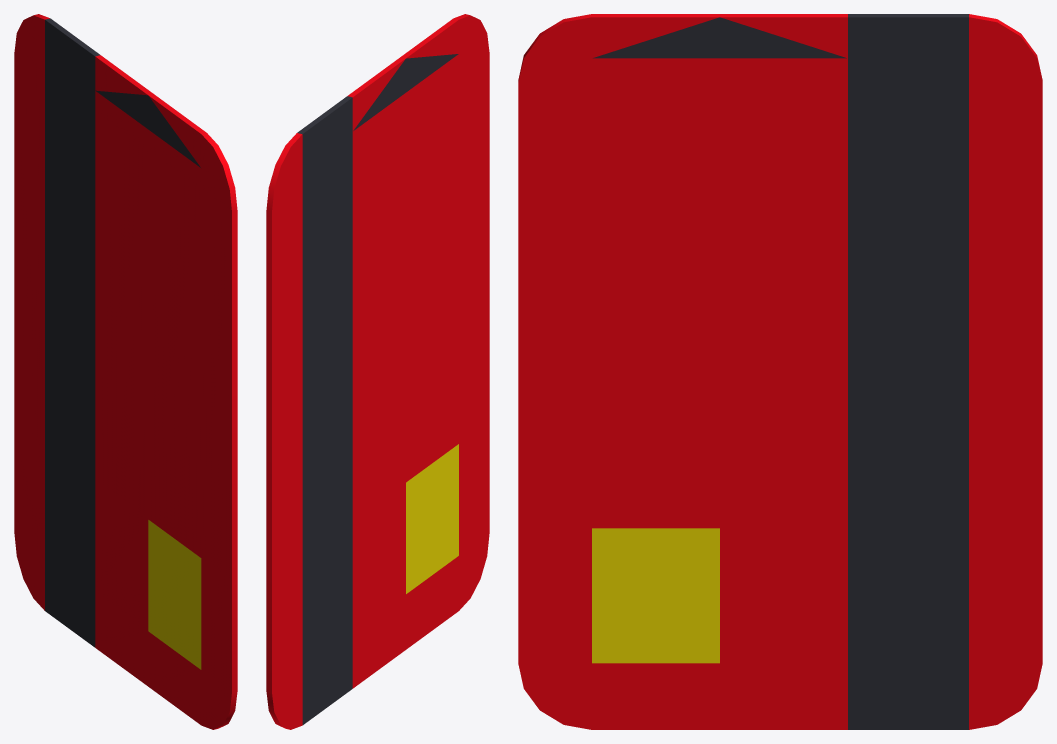
The model's file is Key_Red.fbx.
3 renders of one model, left to right at view 1: azimuth 30°, elevation 25°; view 2: azimuth 150°, elevation 25°; view 3: azimuth 270°, elevation 25°, orthographic. The views are drawn at different scales.
Parts seen in each view (by area): view 1: Key_Red; view 2: Key_Red; view 3: Key_Red.
Part boxes in pixels (bbox=[...]): Key_Red: bbox=[14, 14, 237, 729]; Key_Red: bbox=[266, 14, 489, 729]; Key_Red: bbox=[518, 14, 1042, 729].
Size of the model in its own units: 0.5245 by 53.71 by 35.82.
